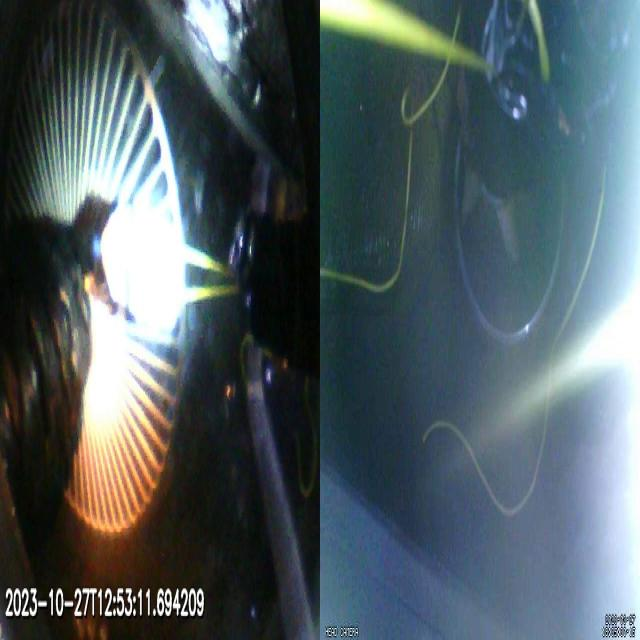head: (104, 203, 185, 329)
